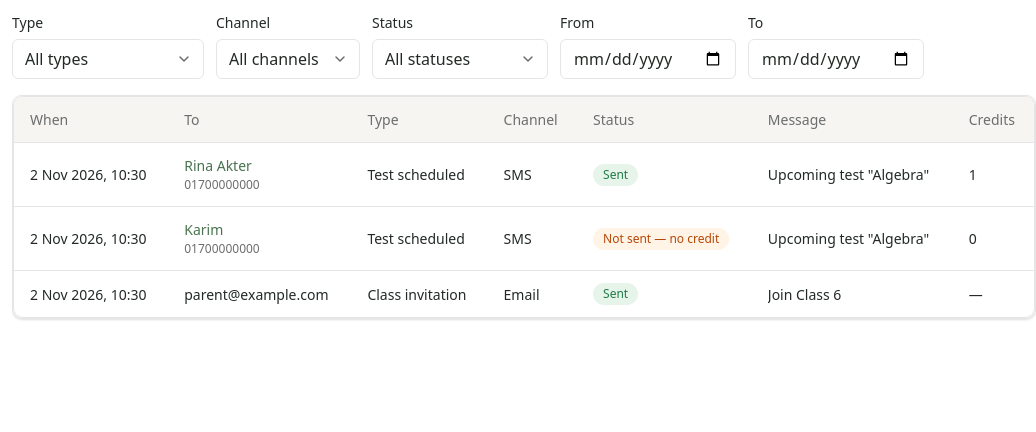
Test: message log (FND-14) › lists messages with translated type, channel and status, and filters
Expected: the text "Test scheduled" is shown 2 times, x1=351 y1=142 x2=488 y2=206; x1=351 y1=206 x2=488 y2=270
Expected: the text "Not sent — no credit" is shown, x1=603 y1=230 x2=719 y2=248
Select "Not sent — no credit" in the dropdown labelled "Status" at (460, 59), box x1=372 y1=39 x2=548 y2=79
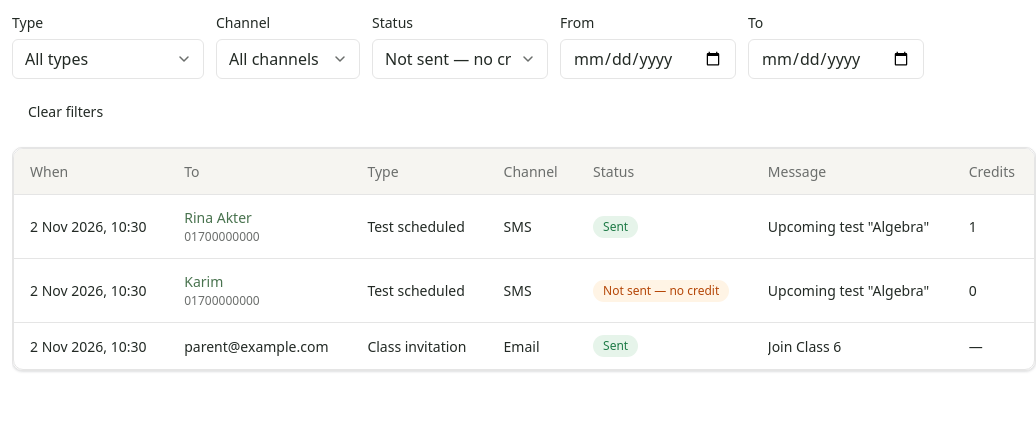
Note: The table reloads after a filter change.
Click the button with aria-label "Show only messages to Rina Akter".
click(260, 218)  # box x1=184 y1=207 x2=335 y2=228
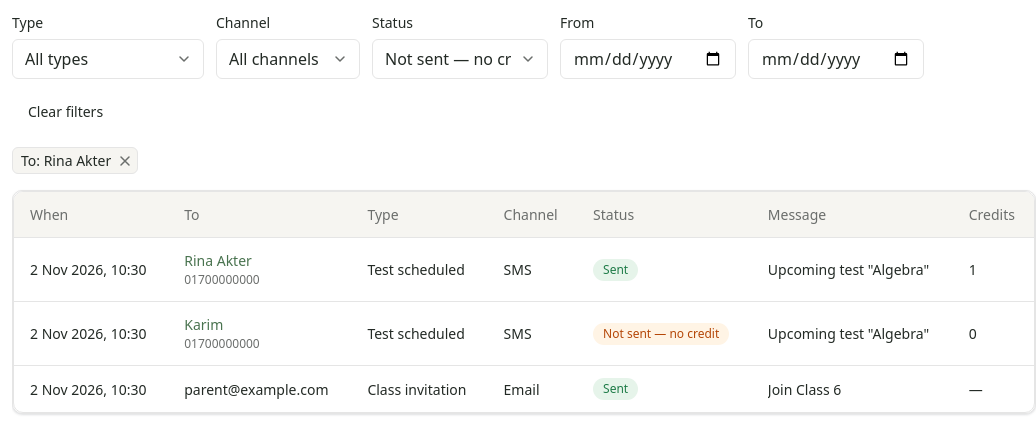
Expected: the text "To: Rina Akter" is shown, x1=21 y1=150 x2=111 y2=171
